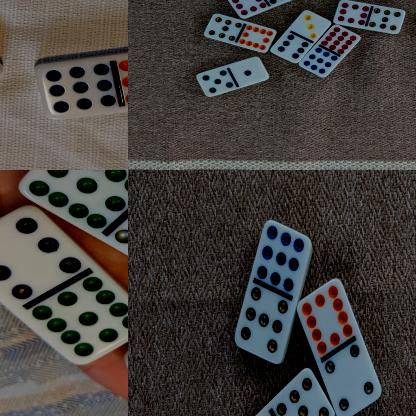pip-1: (231, 57, 268, 87)
pip-10: (296, 278, 352, 356), (238, 26, 276, 53), (224, 0, 266, 18)
pip-11: (32, 277, 128, 364), (29, 170, 128, 230)
pip-12: (320, 25, 361, 56)
pip-3: (294, 10, 330, 40)
pip-4: (324, 345, 380, 416)
pip-5: (196, 70, 234, 97)
pip-6: (0, 217, 80, 299), (269, 34, 309, 64)
pip-7: (234, 287, 288, 364), (275, 368, 335, 416), (367, 7, 405, 36), (203, 15, 242, 42)
pip-8: (332, 0, 368, 26)
pip-9: (41, 58, 116, 121), (256, 219, 312, 292), (300, 48, 338, 79)
